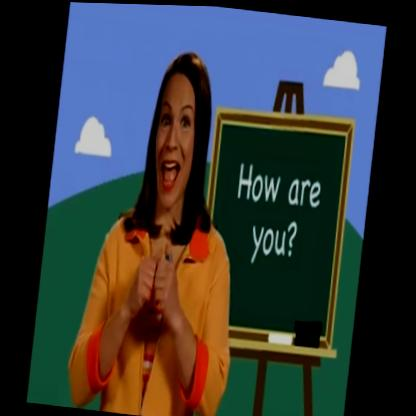HowAreYou: (108, 226, 209, 359)
